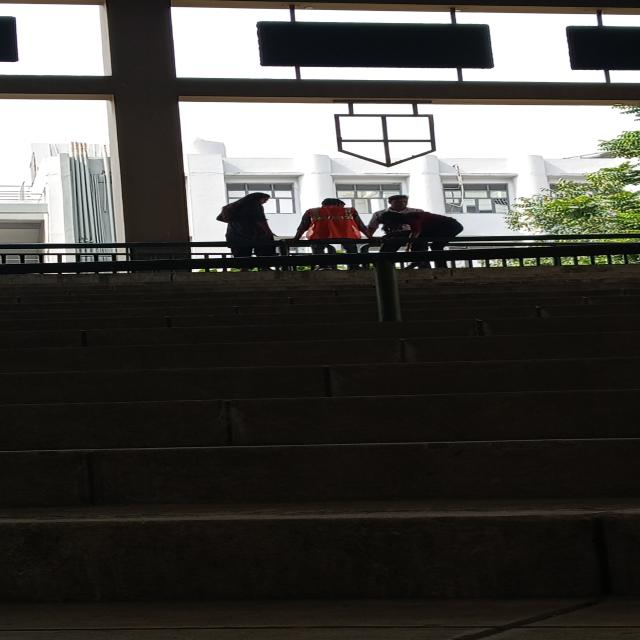unsafe: (218, 190, 285, 272), (296, 198, 369, 272), (381, 211, 466, 270)
